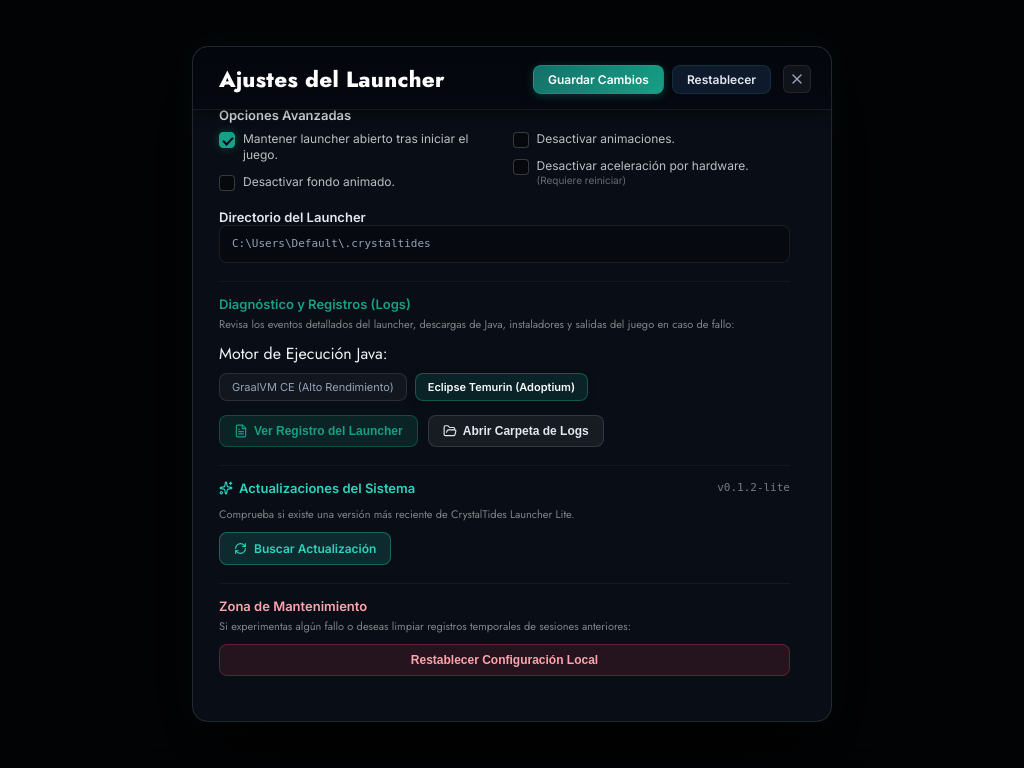
Test: SettingsModal Component & Helpers Suite › SettingsModal Integration Actions › permite comprobar actualizaciones del sistema y mostrar feedback
This screenshot has width=1024, height=768.
(page scrolled)
Click the button "Buscar Actualización" at coordinates (305, 548), box left=219, top=532, right=391, bottom=564
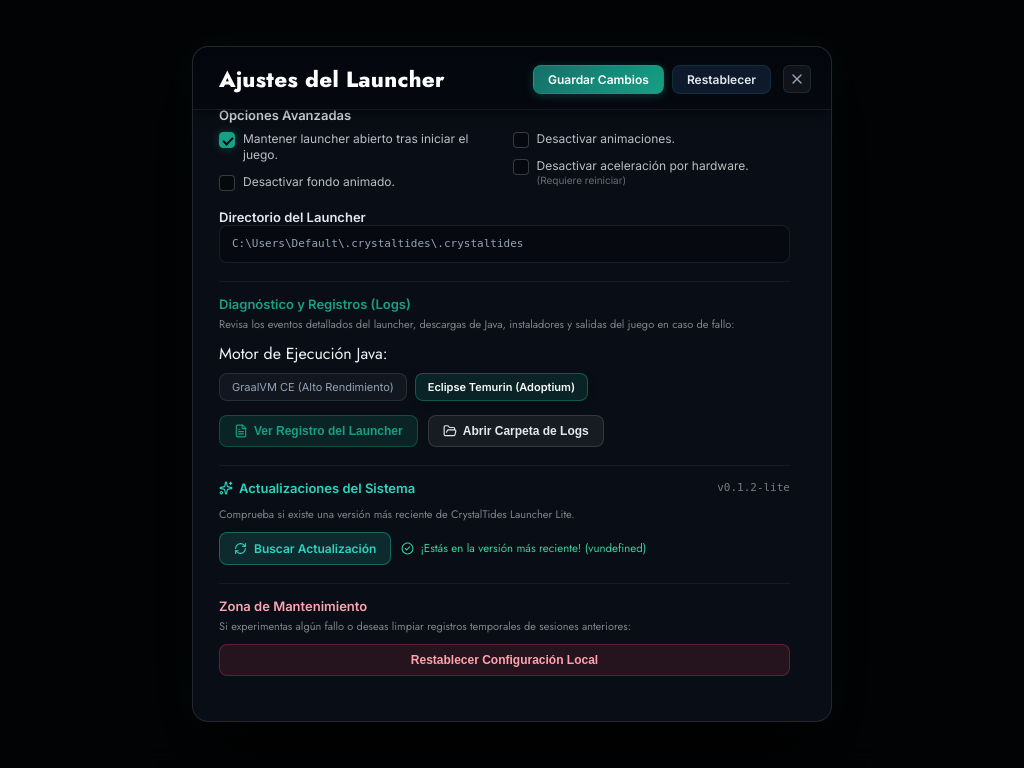
Now the text "¡Estás en la versión más reciente!" is shown, box left=420, top=540, right=646, bottom=556
